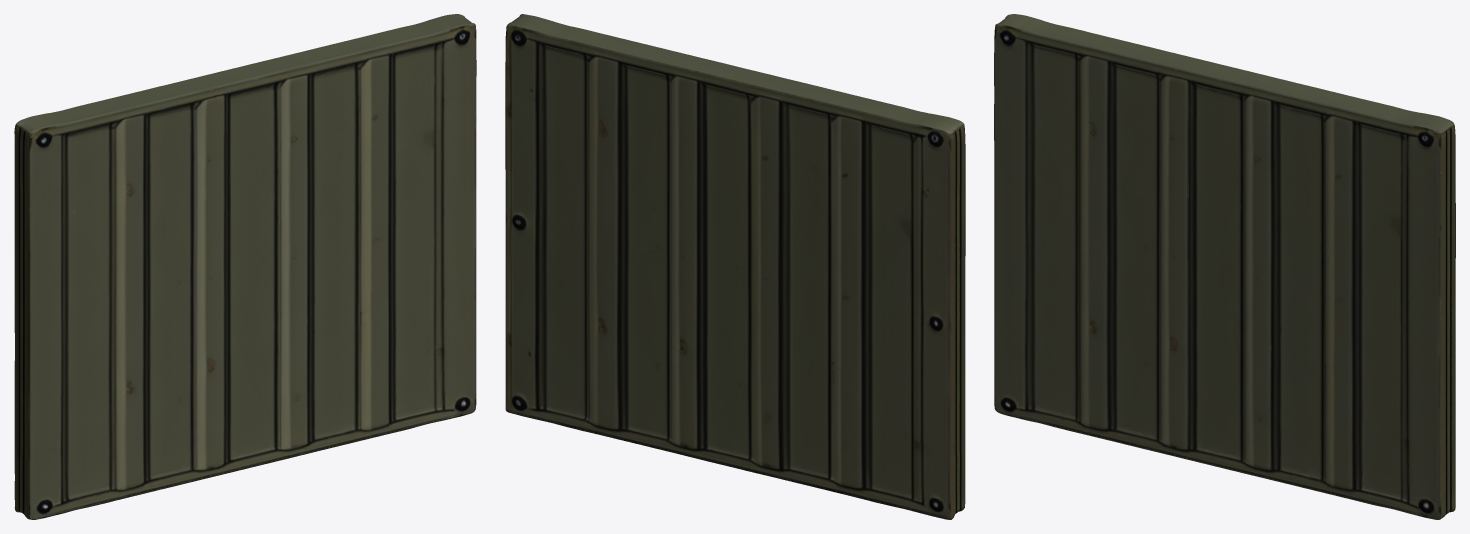
Rendered from Wall-Industrial-1.glb.
The picture shows the model from 3 angles, left to right: view 1: azimuth 30°, elevation 25°; view 2: azimuth 150°, elevation 25°; view 3: azimuth 330°, elevation 25°; orthographic projection.
Parts seen in each view (by area): view 1: tmp98ry7kav.ply; view 2: tmp98ry7kav.ply; view 3: tmp98ry7kav.ply.
Boxes of the visible parts, x1,y1,x2,y2 form: tmp98ry7kav.ply: [14, 14, 476, 519]; tmp98ry7kav.ply: [505, 14, 965, 519]; tmp98ry7kav.ply: [994, 14, 1455, 519].
Bounding box in the file's own units: 3 × 2.5 × 0.2.
1 material, 1 textured.
